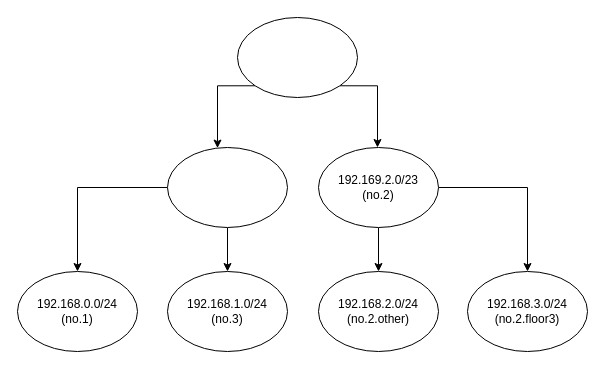
The diagram is 605 pixels wide and 369 high, and some of its shapes have lost their labels. Here are the shapes that lost their labels. From the top down, the centre of each, then its label:
At (x=297, y=57): "192.168.0.0/22 root".
At (x=227, y=187): "192.168.0.0/23 (no.1 & no.3)".
